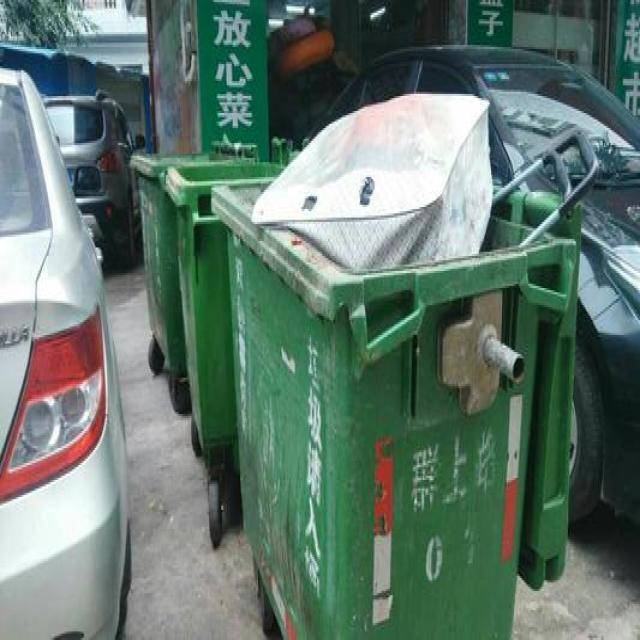garbage_bin: (165, 160, 288, 446), (128, 149, 212, 367)
overflow: (213, 92, 593, 638)
